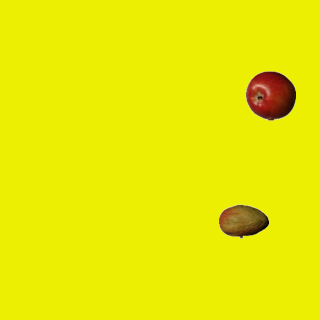Apple Braeburn: (245, 70, 295, 120)
Papaya: (218, 196, 268, 246)
